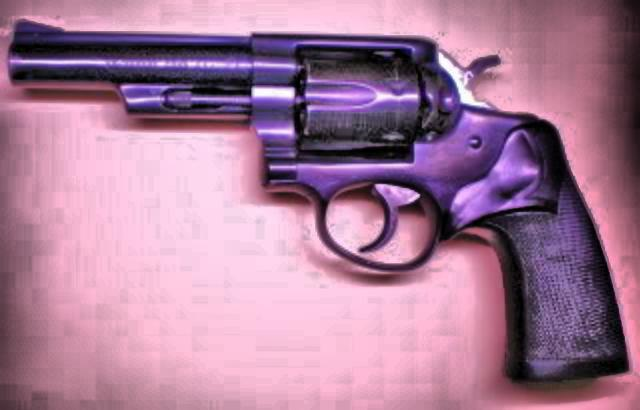pistol: (8, 16, 630, 376)
